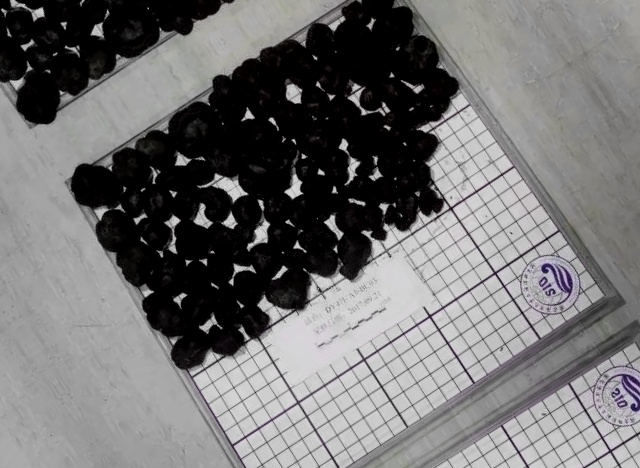halobolite: (64, 163, 124, 210), (261, 40, 318, 86), (394, 37, 443, 90), (93, 205, 139, 255), (333, 228, 375, 281), (141, 292, 188, 337), (118, 242, 154, 288), (200, 183, 238, 224), (250, 239, 283, 285), (214, 294, 248, 331), (260, 191, 294, 224)
